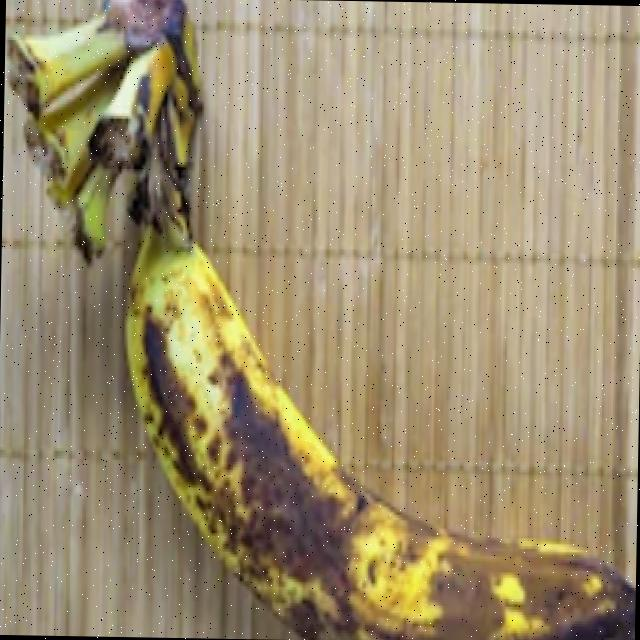Rotten: (97, 194, 640, 640)
